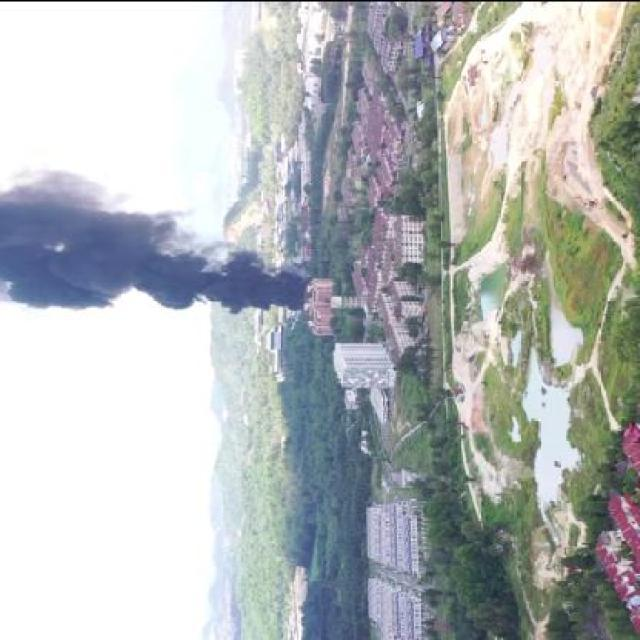Smoke: (0, 162, 309, 316)
